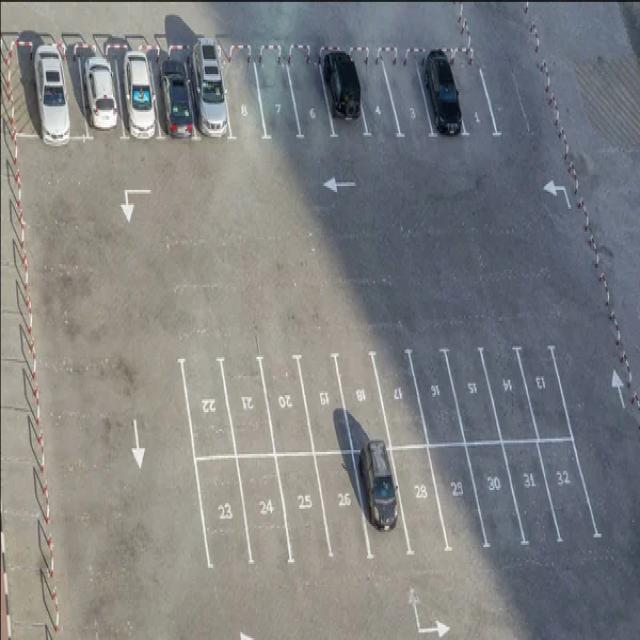libre: (178, 340, 604, 571), (228, 46, 328, 141), (462, 54, 524, 138), (359, 59, 425, 134)
ocupado: (30, 38, 228, 149), (350, 438, 411, 560), (425, 43, 459, 139), (330, 52, 361, 128)
